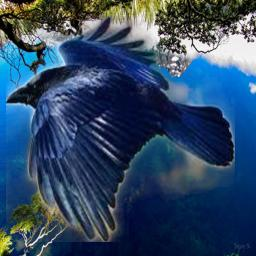Crow: (6, 16, 235, 242)
